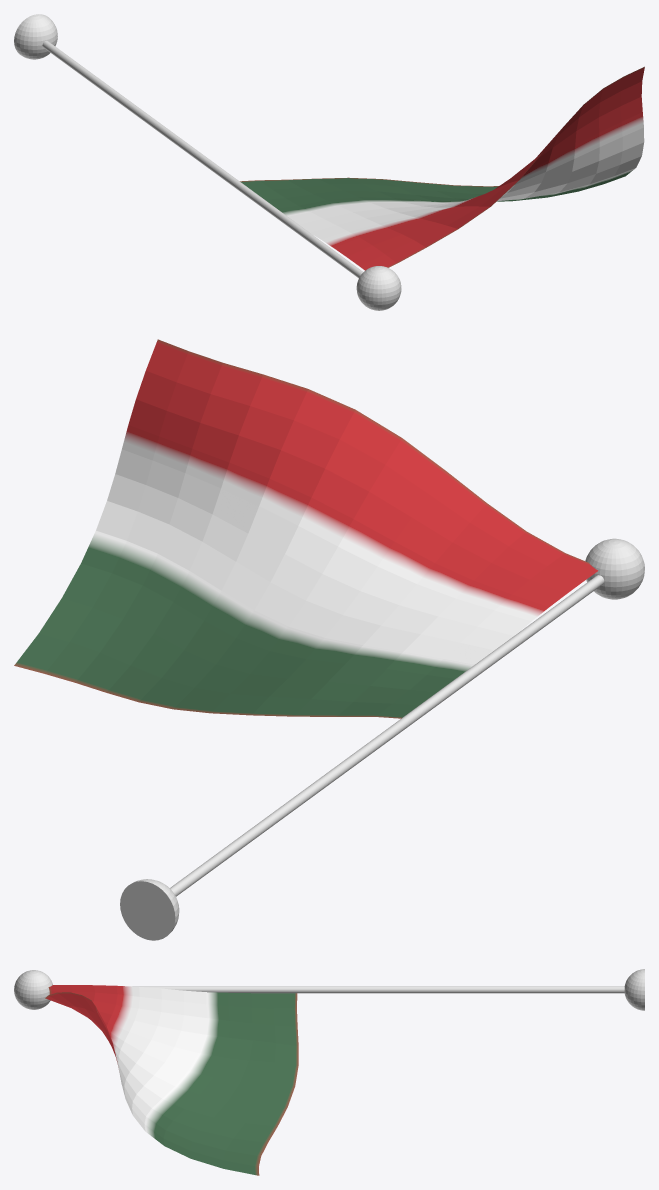
The model's file is hungary.glb.
3 views of the same model, one above another, from view 1: azimuth 30°, elevation 25°; view 2: azimuth 150°, elevation 25°; view 3: azimuth 270°, elevation 25° (orthographic). The views are drawn at different scales.
Parts seen in each view (by area): view 1: Plane.013, Cylinder.012, Sphere.033, Sphere.032; view 2: Plane.013, Cylinder.012, Sphere.032, Sphere.033; view 3: Plane.013, Cylinder.012, Sphere.033, Sphere.032.
Part boxes in pixels (left/top/right/bottom): Plane.013: left=240, top=66, right=644, bottom=270; Cylinder.012: left=42, top=40, right=363, bottom=278; Sphere.033: left=356, top=266, right=401, bottom=310; Sphere.032: left=14, top=14, right=57, bottom=59; Plane.013: left=14, top=339, right=598, bottom=718; Cylinder.012: left=170, top=575, right=604, bottom=896; Sphere.032: left=120, top=879, right=179, bottom=940; Sphere.033: left=585, top=538, right=644, bottom=599; Plane.013: left=45, top=985, right=298, bottom=1175; Cylinder.012: left=132, top=986, right=624, bottom=993; Sphere.033: left=14, top=970, right=52, bottom=1009; Sphere.032: left=624, top=969, right=644, bottom=1010.
Size of what is drawn, in the model's own units: 0.8806 by 0.4405 by 1.59.
Materials: 2 (1 with a texture image).
